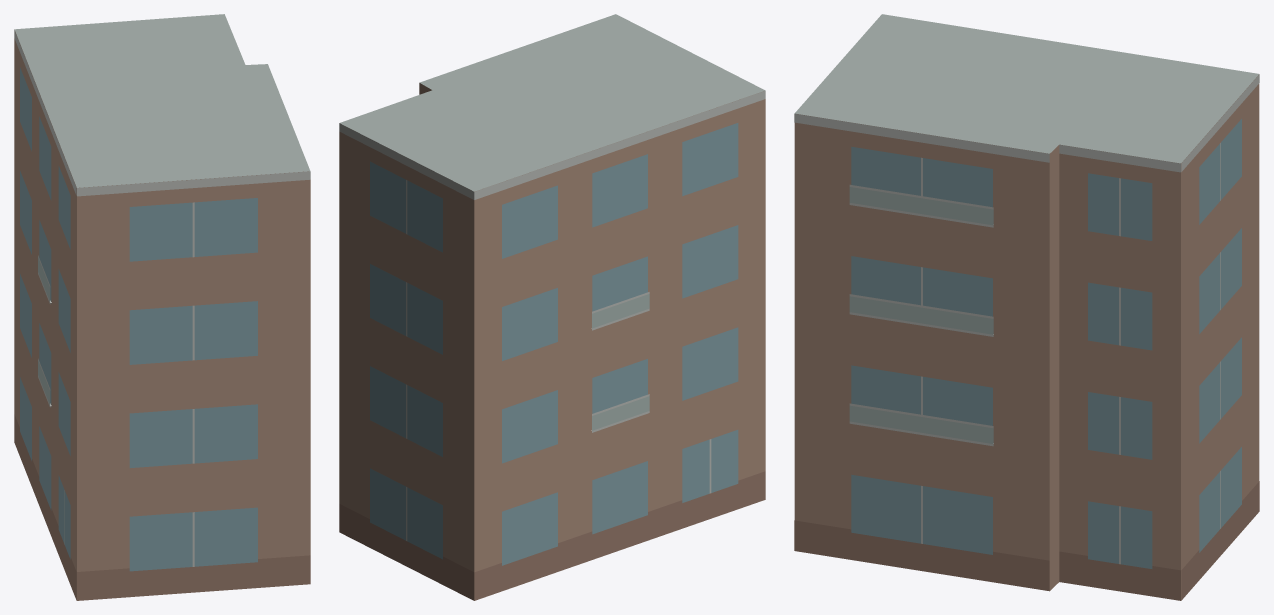
File: survey-upis-32878820.glb
3 views of the same model, side by side, from view 1: azimuth 30°, elevation 25°; view 2: azimuth 150°, elevation 25°; view 3: azimuth 270°, elevation 25° (orthographic). The views are drawn at different scales.
Parts seen in each view (by area): view 1: survey-upis-32878820.tmp; view 2: survey-upis-32878820.tmp; view 3: survey-upis-32878820.tmp.
Part boxes in pixels (<box>): survey-upis-32878820.tmp: <box>14,14,310,600</box>; survey-upis-32878820.tmp: <box>339,14,765,600</box>; survey-upis-32878820.tmp: <box>794,14,1259,600</box>.
Bounding box in the file's own units: 8.65 × 11.8 × 11.38.
